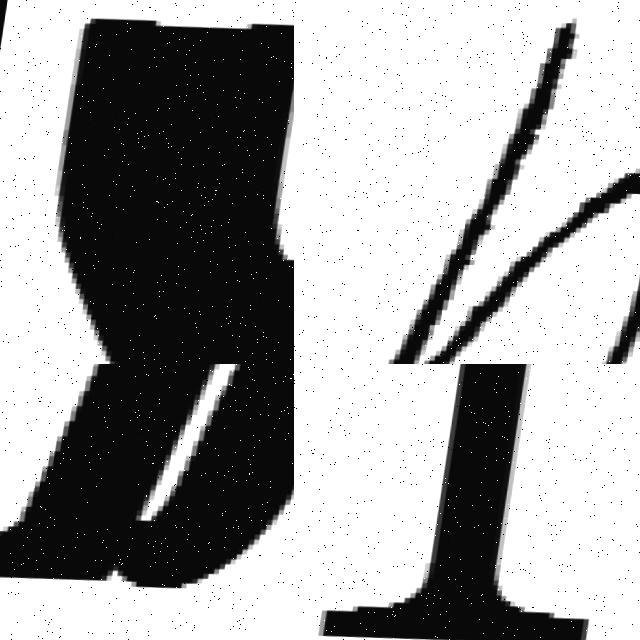1: (301, 364, 640, 640)
B: (398, 25, 640, 364), (0, 364, 294, 595)
V: (9, 0, 294, 364)
